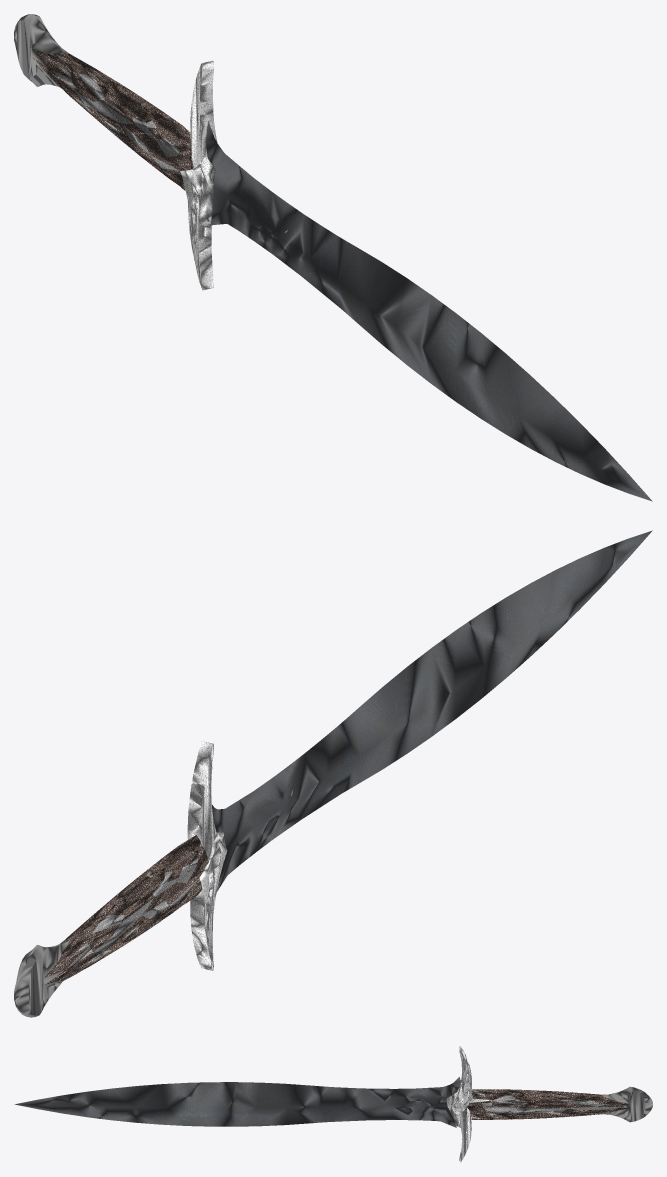
Rendered from model_align.obj.
3 views of the same model, one above another, from view 1: azimuth 30°, elevation 25°; view 2: azimuth 150°, elevation 25°; view 3: azimuth 270°, elevation 25° (orthographic). The views are drawn at different scales.
Bounding box in the file's own units: 0.00588 × 0.0442 × 0.225.
